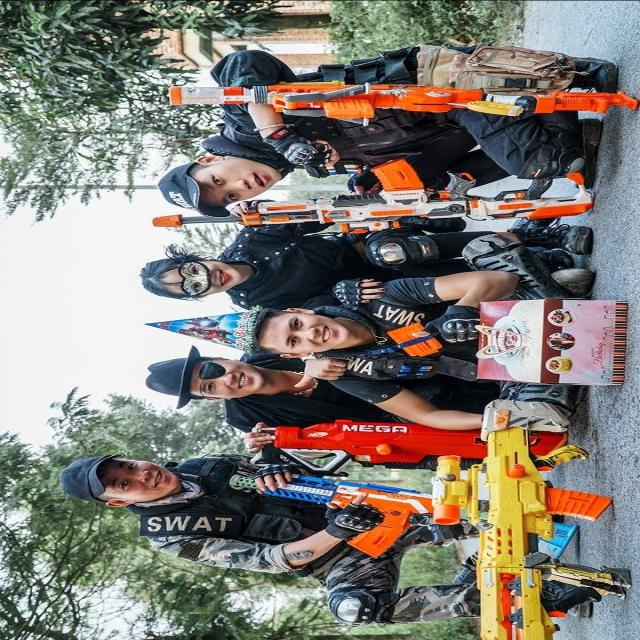Nerf gun: (418, 397, 618, 637), (137, 153, 604, 244), (160, 72, 638, 128), (158, 480, 450, 558), (245, 409, 569, 472)
